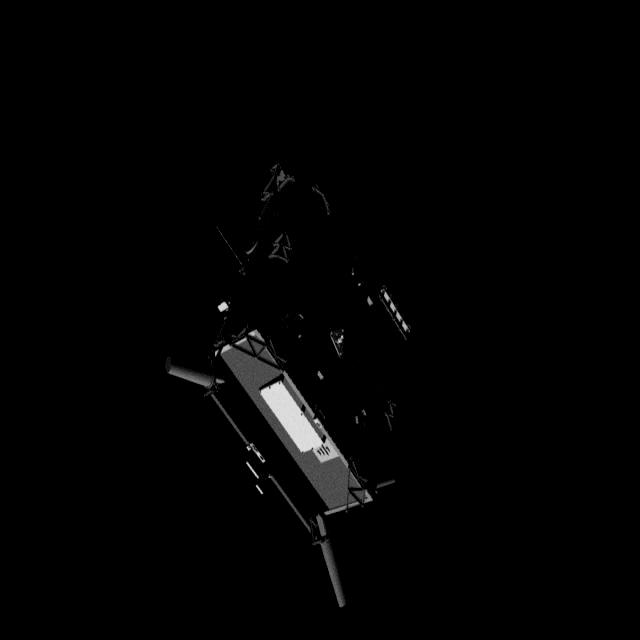medium_debris: (150, 154, 412, 612)
